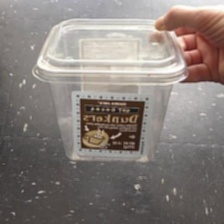plastic_box: (25, 9, 195, 169)
